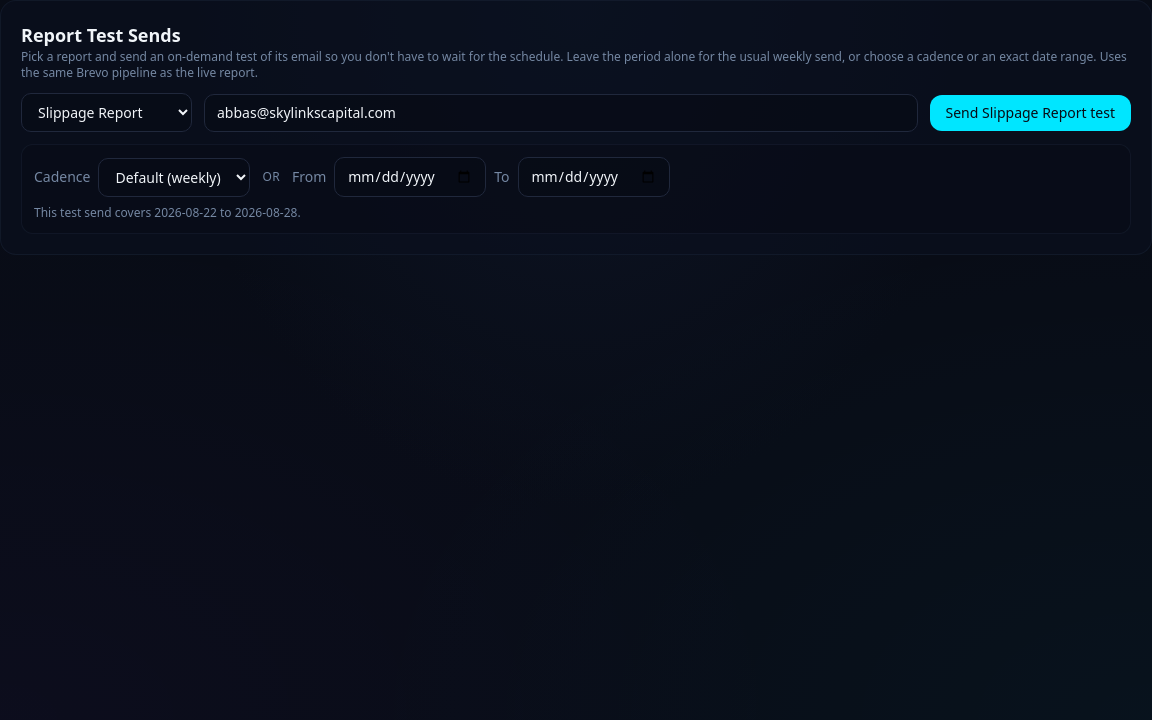
ReportTestSendPanel resolved period and errors › names the exact day a daily test covers, without a redundant to-date
The image size is (1152, 720).
Select "Daily" in the dropdown labelled "Cadence": (174, 177) [98, 158, 250, 196]
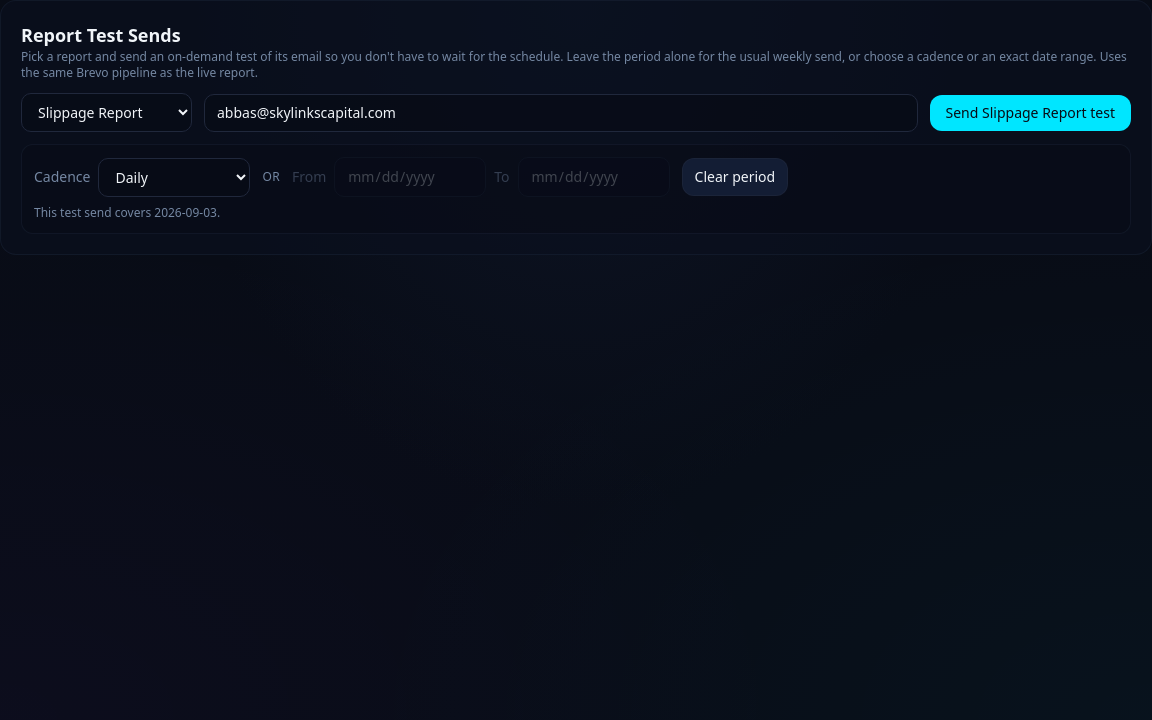
Now the text "This test send covers 2026-09-03." is shown, box [34, 204, 220, 221]
